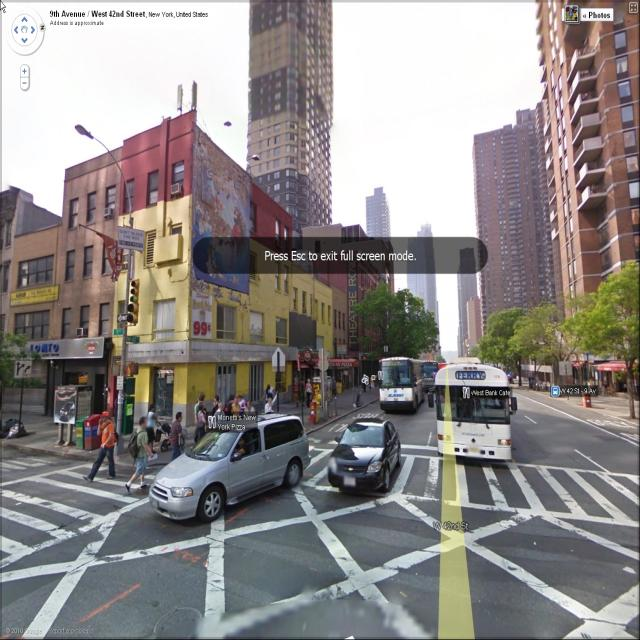b_1: (116, 102, 231, 440), (542, 2, 640, 269), (42, 147, 137, 379), (472, 114, 566, 336), (246, 3, 340, 222), (314, 220, 395, 369), (0, 229, 66, 348), (443, 242, 493, 381), (396, 221, 434, 320), (358, 188, 400, 254)
